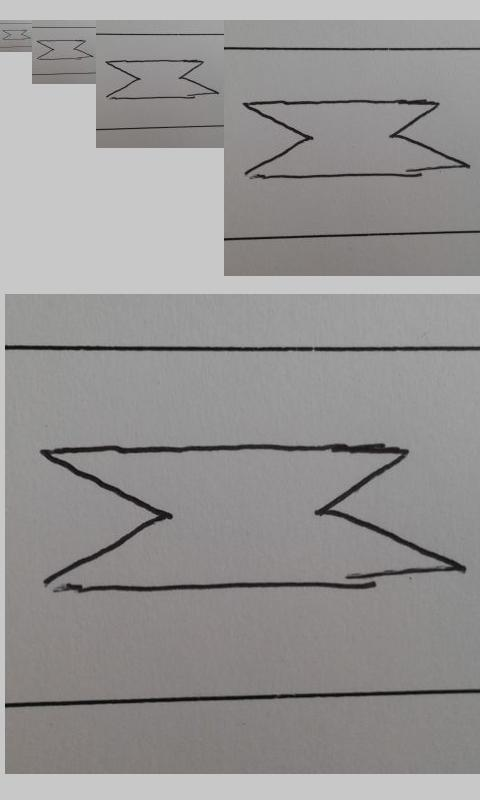edit_text: (41, 439, 467, 600), (241, 98, 469, 180), (105, 59, 219, 100), (35, 39, 93, 61), (2, 29, 30, 41)
